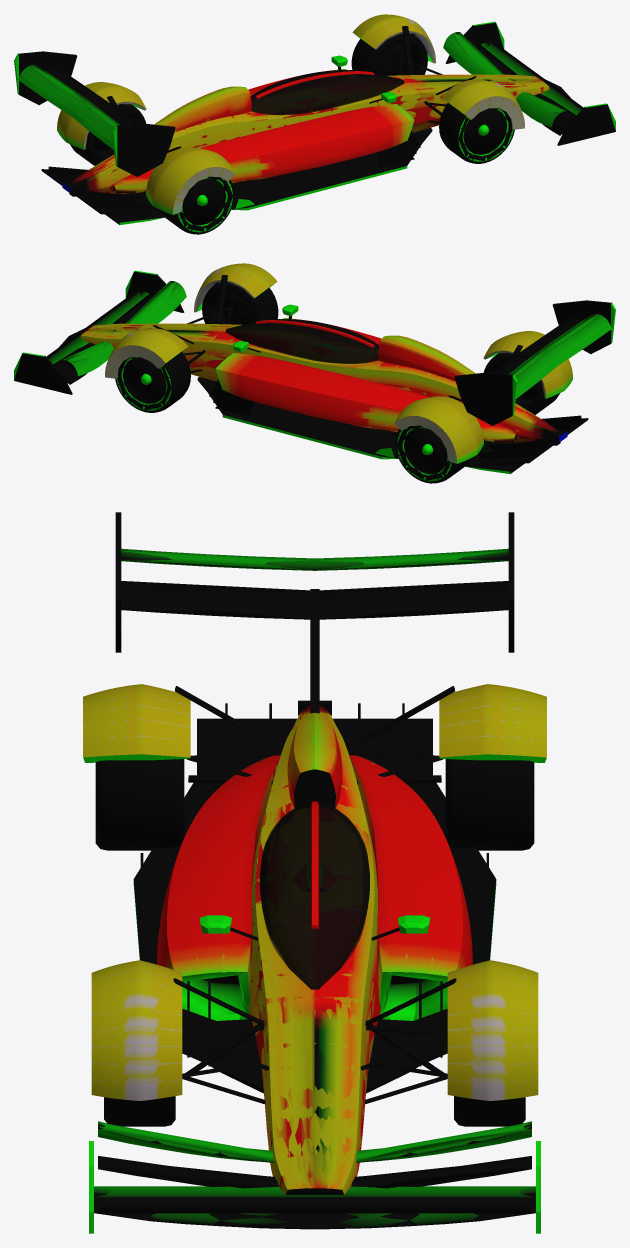
The model's file is kestrel.glb.
3 renders of one model, top to bottom at view 1: azimuth 30°, elevation 25°; view 2: azimuth 150°, elevation 25°; view 3: azimuth 270°, elevation 25°, orthographic. The views are drawn at different scales.
Visible parts, largest first — view 1: body_L0, body_L2, glass_L0, glass_L1, body_L1, wheel_RR_L2, wheel_FR_L2, wheel_FL_L0, wheel_FR_L0, glass_L2, wheel_FL_L1, wheel_FL_L2 (+6 smaller); view 2: body_L0, body_L2, glass_L0, glass_L1, body_L1, wheel_RL_L2, wheel_FL_L2, wheel_FR_L0, wheel_FL_L0, glass_L2, wheel_FR_L1, wheel_RR_L0 (+5 smaller); view 3: body_L0, body_L2, body_L1, glass_L0, glass_L1, wheel_RR_L0, wheel_RL_L0, wheel_FR_L0, wheel_FL_L0, glass_L2.
Boxes of the visible parts, x1=… form: body_L0: x1=14, y1=14, x2=615, y2=224; body_L2: x1=19, y1=31, x2=583, y2=214; glass_L0: x1=251, y1=70, x2=404, y2=115; glass_L1: x1=251, y1=70, x2=403, y2=114; body_L1: x1=18, y1=15, x2=570, y2=212; wheel_RR_L2: x1=179, y1=176, x2=232, y2=231; wheel_FR_L2: x1=458, y1=108, x2=512, y2=161; wheel_FL_L0: x1=351, y1=33, x2=427, y2=75; wheel_FR_L0: x1=439, y1=103, x2=514, y2=163; glass_L2: x1=251, y1=71, x2=402, y2=100; wheel_FL_L1: x1=353, y1=34, x2=426, y2=75; wheel_FL_L2: x1=372, y1=39, x2=426, y2=75; body_L0: x1=14, y1=263, x2=615, y2=473; body_L2: x1=46, y1=280, x2=610, y2=463; glass_L0: x1=225, y1=319, x2=378, y2=363; glass_L1: x1=226, y1=319, x2=378, y2=363; body_L1: x1=59, y1=264, x2=611, y2=461; wheel_RL_L2: x1=397, y1=425, x2=450, y2=480; wheel_FL_L2: x1=117, y1=357, x2=171, y2=410; wheel_FR_L0: x1=202, y1=282, x2=278, y2=324; wheel_FL_L0: x1=115, y1=352, x2=190, y2=412; glass_L2: x1=227, y1=320, x2=378, y2=353; wheel_FR_L1: x1=203, y1=283, x2=276, y2=324; wheel_RR_L0: x1=484, y1=353, x2=559, y2=414; body_L0: x1=83, y1=512, x2=546, y2=1233; body_L2: x1=87, y1=551, x2=542, y2=1213; body_L1: x1=83, y1=561, x2=546, y2=1228; glass_L0: x1=259, y1=801, x2=369, y2=989; glass_L1: x1=260, y1=802, x2=369, y2=989; wheel_RR_L0: x1=95, y1=759, x2=184, y2=850; wheel_RL_L0: x1=445, y1=759, x2=534, y2=850; wheel_FR_L0: x1=104, y1=1096, x2=175, y2=1126; wheel_FL_L0: x1=454, y1=1096, x2=525, y2=1126; glass_L2: x1=261, y1=808, x2=368, y2=988.
Bounding box in the file's own units: 5.45 × 1.31 × 2.2.
